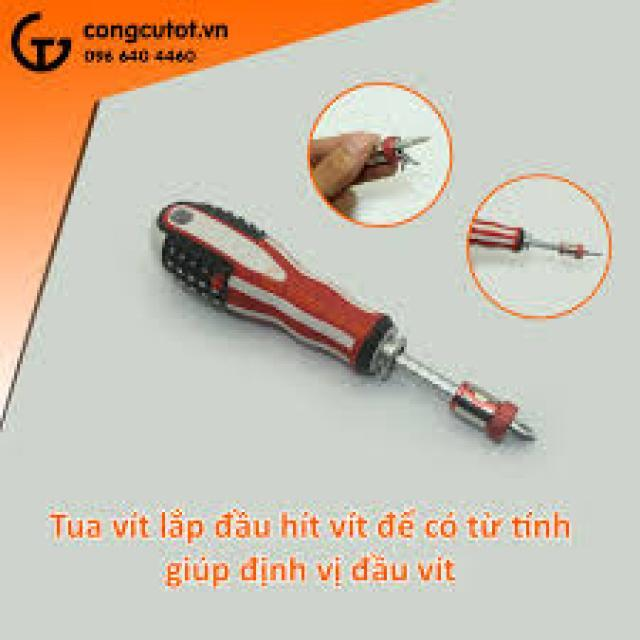screwdriver: (151, 194, 544, 446)
